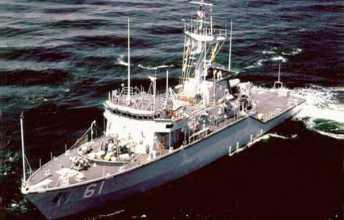warship: (28, 1, 290, 214)
